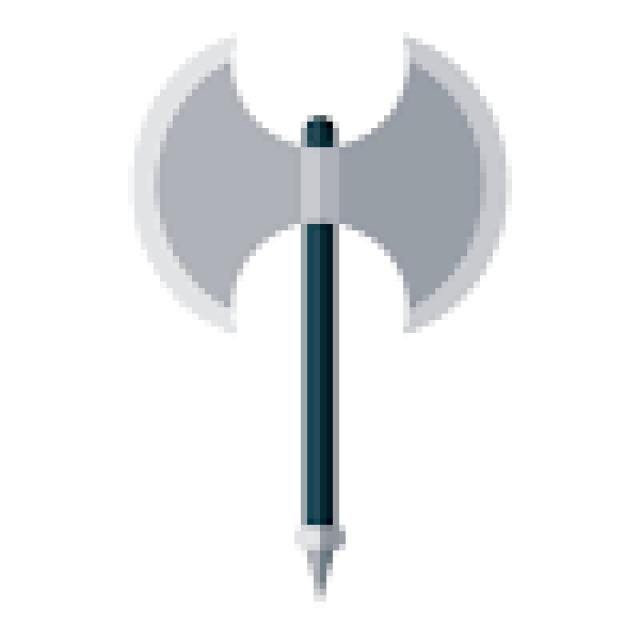Gun: (108, 0, 552, 610)
